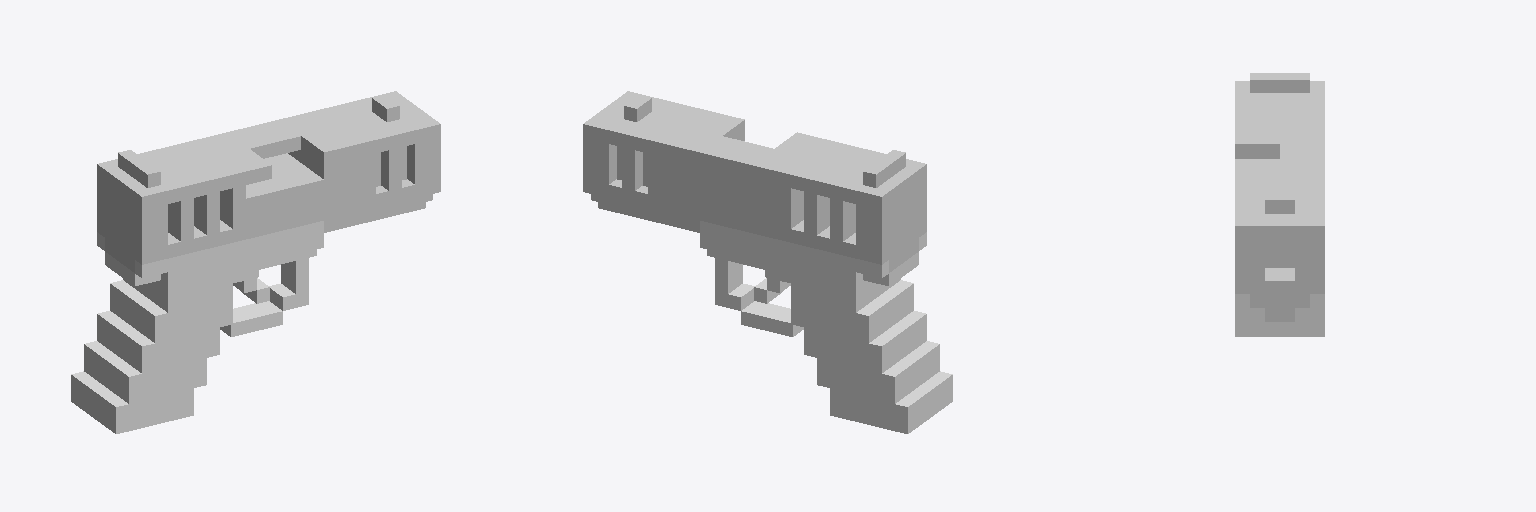
3 renders of one model, left to right at view 1: azimuth 30°, elevation 25°; view 2: azimuth 150°, elevation 25°; view 3: azimuth 270°, elevation 25°, orthographic.
Visible parts, largest first — view 1: object 1; view 2: object 1; view 3: object 1.
Part boxes in pixels (left/top/right/bottom): object 1: left=71, top=91, right=440, bottom=433; object 1: left=583, top=91, right=952, bottom=433; object 1: left=1235, top=73, right=1324, bottom=336.
Size of the model in its own units: 2.5 by 1.8 by 0.6.
1 materials, 1 textured.